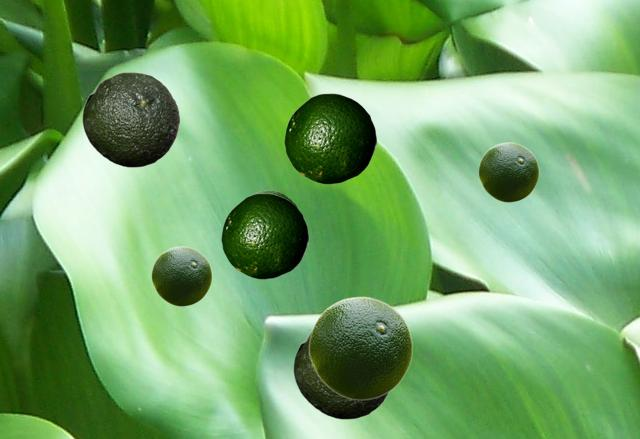calamansi: (308, 296, 412, 399), (82, 72, 179, 166), (284, 93, 376, 183), (293, 333, 389, 418), (221, 193, 308, 278), (151, 246, 211, 305), (478, 142, 538, 201), (251, 190, 297, 206)
